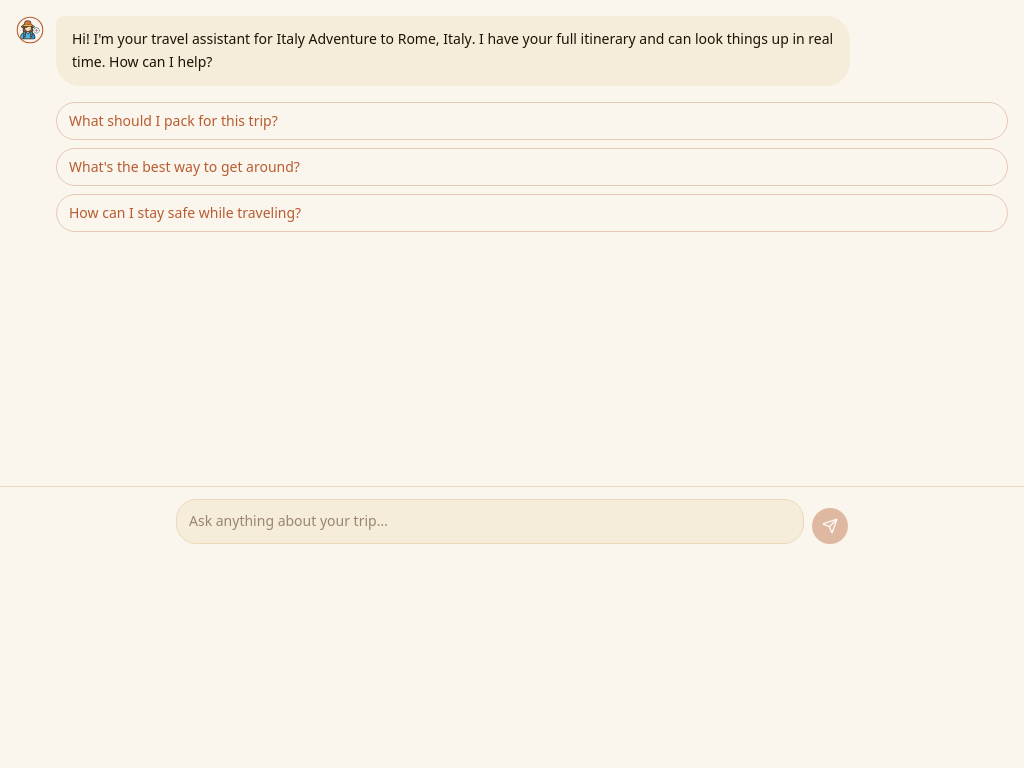
it: ChatTab › sends a message and shows the streamed response
Type "Hi there" into the text box named "Chat message" at (490, 522), box [176,499,804,544]
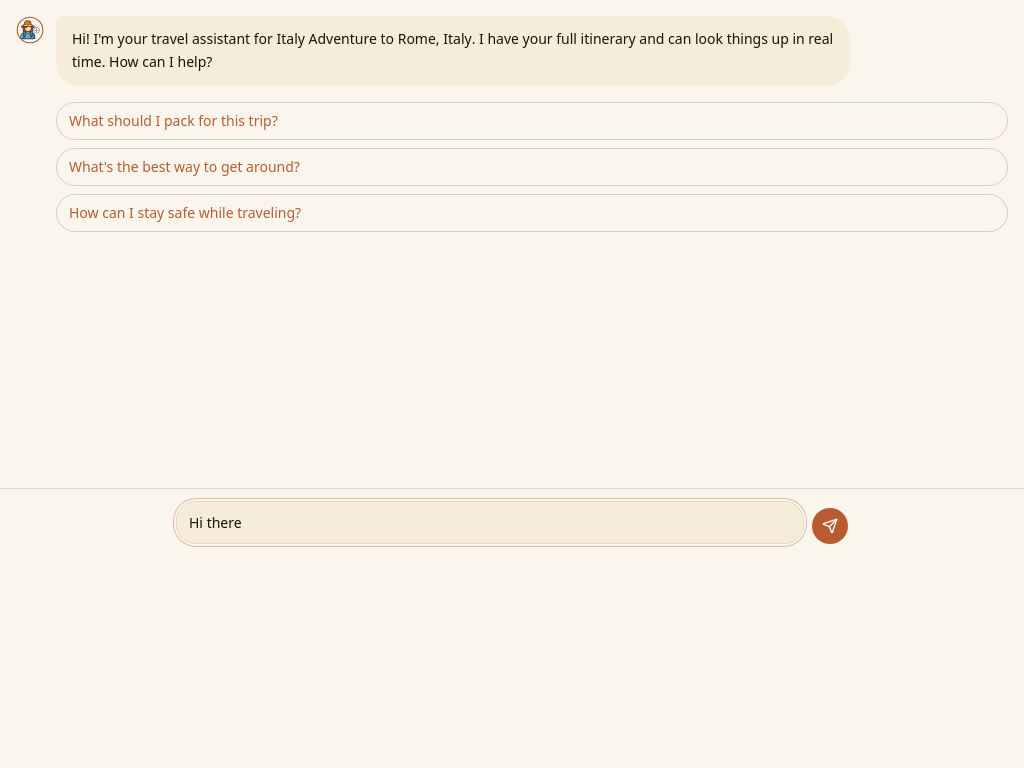
Click the button named "Send message" at (830, 526), box [812,508,848,544]
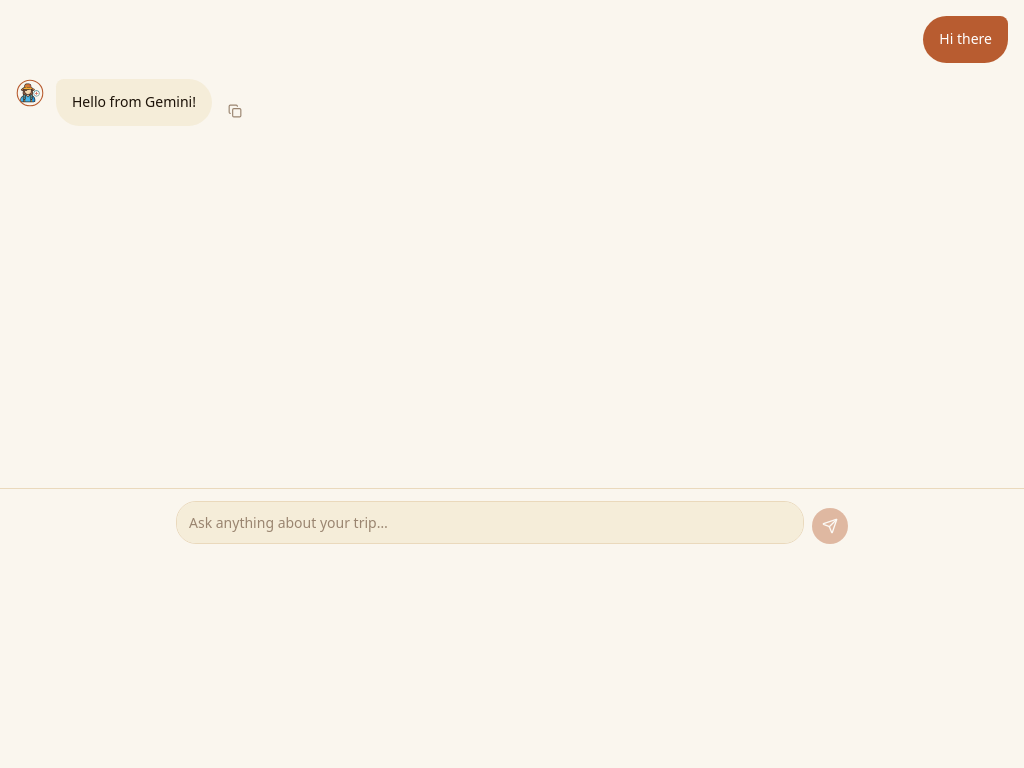
expect the text "Hi there" is shown: met, box [923,16,1008,63]
expect the text "Hello from Gemini!" is shown: met, box [72,91,196,114]
